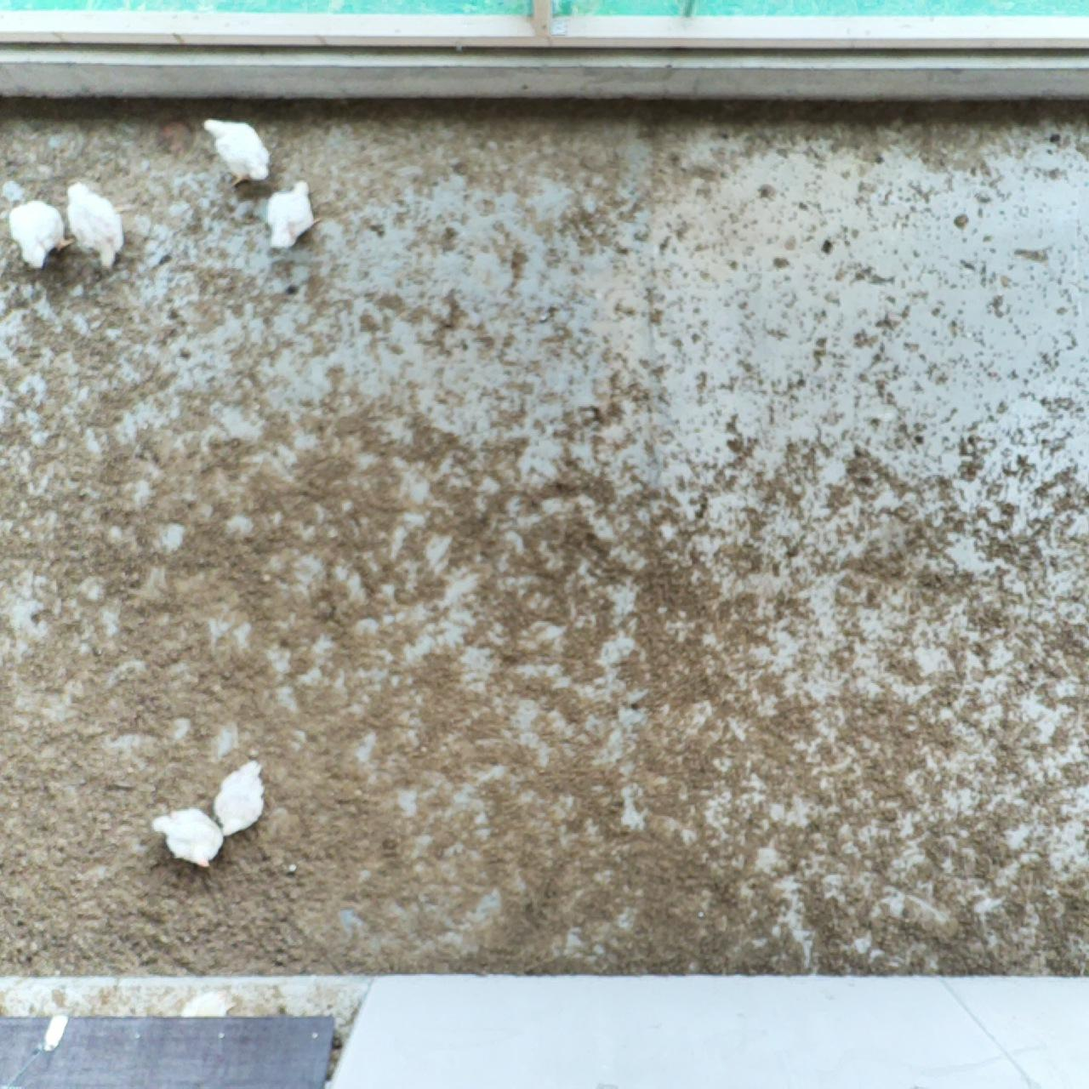chicken: (65, 180, 131, 276), (198, 114, 271, 195), (149, 800, 225, 873), (5, 197, 74, 273), (262, 175, 326, 253), (212, 756, 271, 838)
